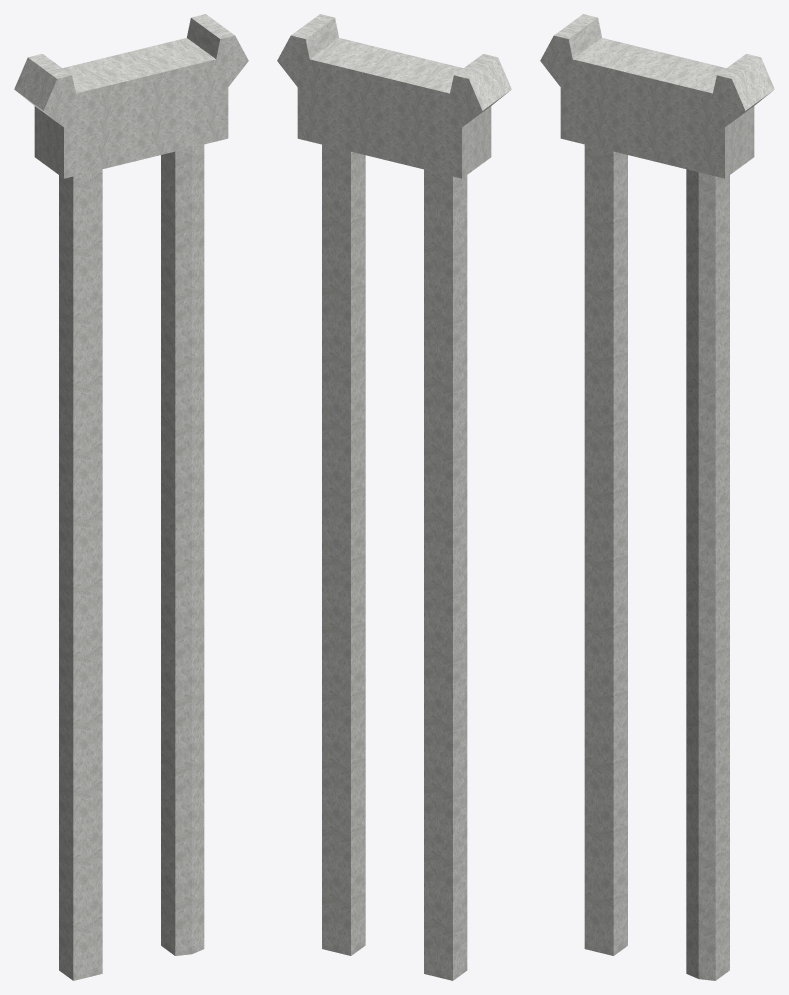
The model's file is thm_corl_imprv_bridge_insert_s01_l2.fbx.
3 renders of one model, left to right at view 1: azimuth 30°, elevation 25°; view 2: azimuth 150°, elevation 25°; view 3: azimuth 330°, elevation 25°, orthographic.
Parts seen in each view (by area): view 1: mesh_node; view 2: mesh_node; view 3: mesh_node.
Boxes of the visible parts, <box> form: mesh_node: <box>14,14,248,980</box>; mesh_node: <box>277,14,511,980</box>; mesh_node: <box>540,14,774,980</box>.
Size of the model in its own units: 8.07 by 34.27 by 2.
Materials: 1 (1 with a texture image).
